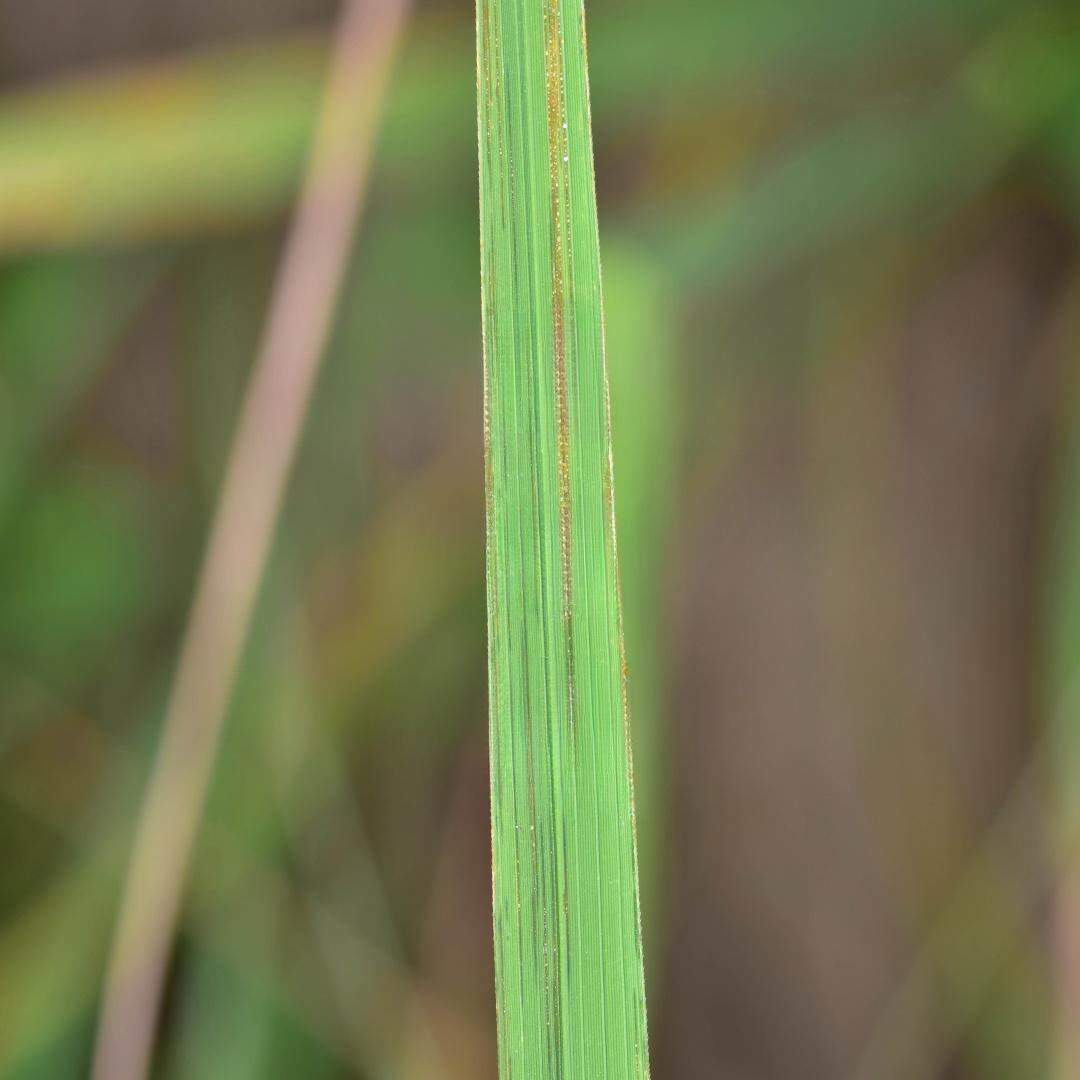BLS: (543, 0, 577, 760), (603, 451, 635, 801), (479, 237, 494, 539), (525, 611, 537, 903), (579, 2, 594, 171), (552, 843, 562, 1079), (498, 917, 511, 1079), (493, 0, 502, 231), (542, 820, 550, 1079), (482, 0, 493, 174), (515, 847, 521, 933)
